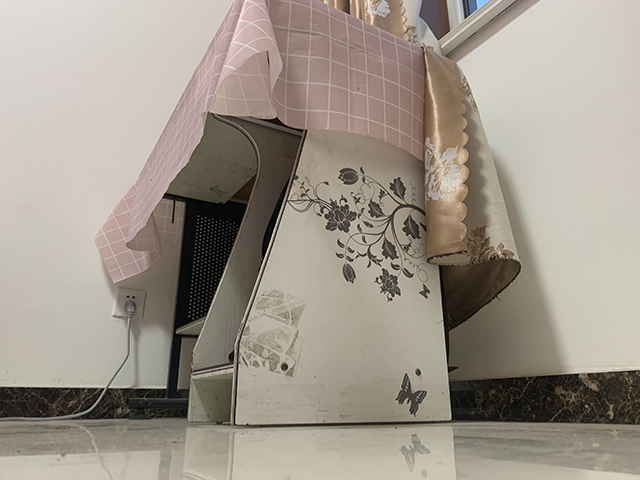table: (93, 1, 520, 426)
wire: (1, 298, 138, 421)
